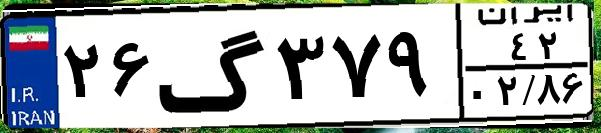0: (470, 70, 495, 125)
2: (57, 26, 110, 100), (537, 27, 568, 80), (495, 70, 520, 125)
3: (270, 28, 330, 110)
4: (508, 27, 537, 80)
6: (110, 28, 156, 98), (560, 70, 590, 125)
7: (330, 28, 385, 110)
8: (535, 70, 560, 125)
9: (385, 28, 445, 110)
گ: (156, 12, 270, 120)
